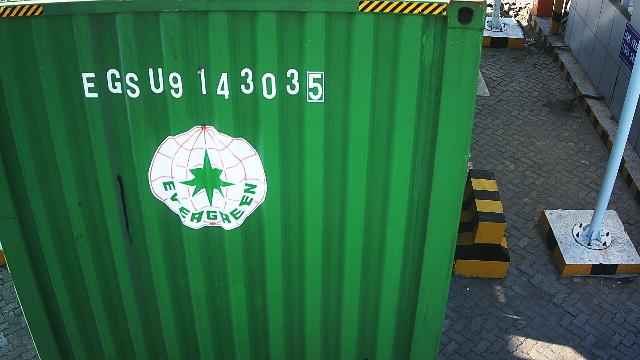0: (262, 72, 276, 100)
1: (197, 68, 207, 94)
3: (286, 68, 300, 96), (240, 67, 254, 95)
4: (216, 72, 230, 100)
5: (308, 71, 324, 101)
9: (168, 72, 184, 98)
E: (81, 72, 99, 98)
G: (106, 68, 122, 94)
S: (125, 72, 141, 98)
U: (148, 66, 164, 96)
